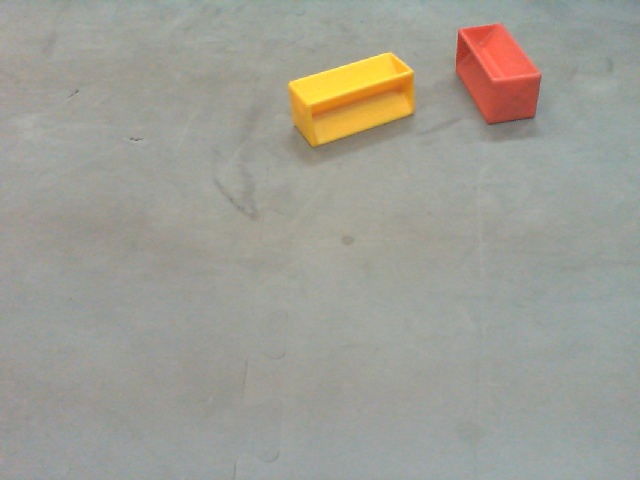RedSample: (453, 23, 546, 129)
YellowSample: (286, 50, 415, 148)
